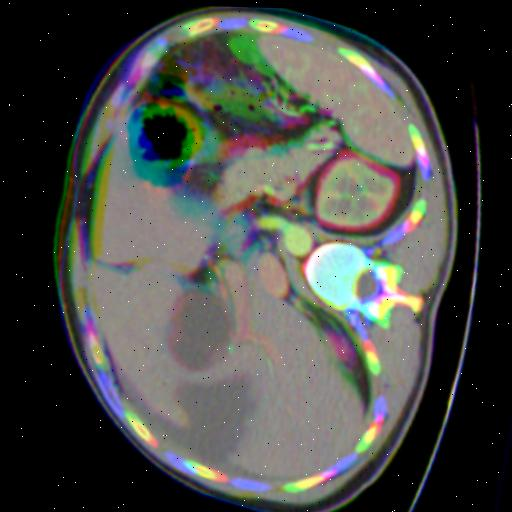Cyst: (167, 374, 247, 462), (161, 288, 223, 369)
